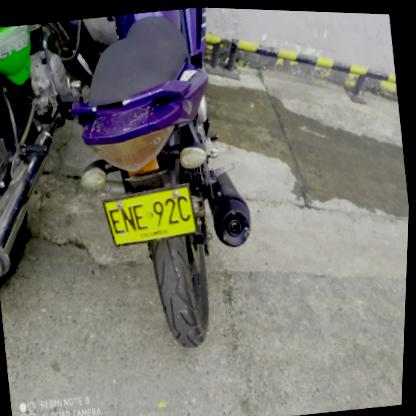placa: (95, 173, 205, 253)
